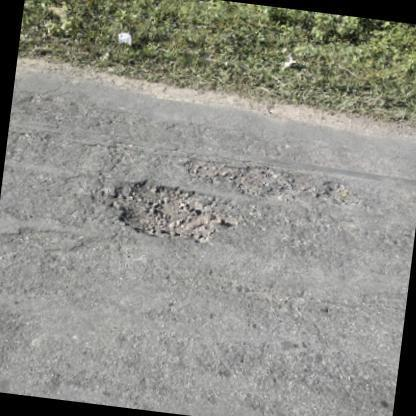pothole: (109, 180, 229, 246), (178, 160, 348, 206)
